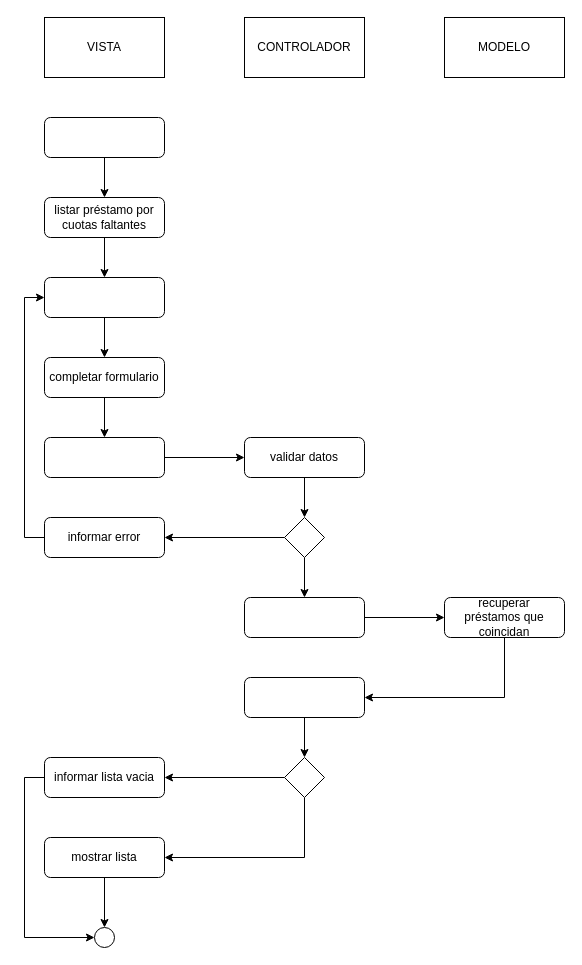
Image size: 582x965. Some labels were removed from this diagram. The box of each missing label's shape, as (x1, y1, x2, y2) in pixels:
comprobar lista: (244, 676, 364, 718)
confirmar formulario: (44, 436, 164, 478)
mostrar formulario: (44, 276, 164, 318)
recuperar lista préstamos: (244, 596, 364, 638)
vista préstamo: (44, 116, 164, 158)
